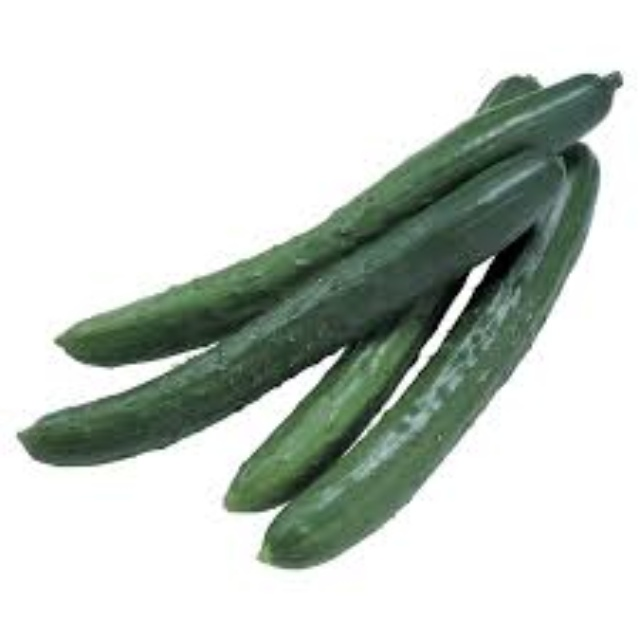dua_leo: (14, 146, 565, 467), (54, 72, 615, 370), (255, 142, 600, 571)
